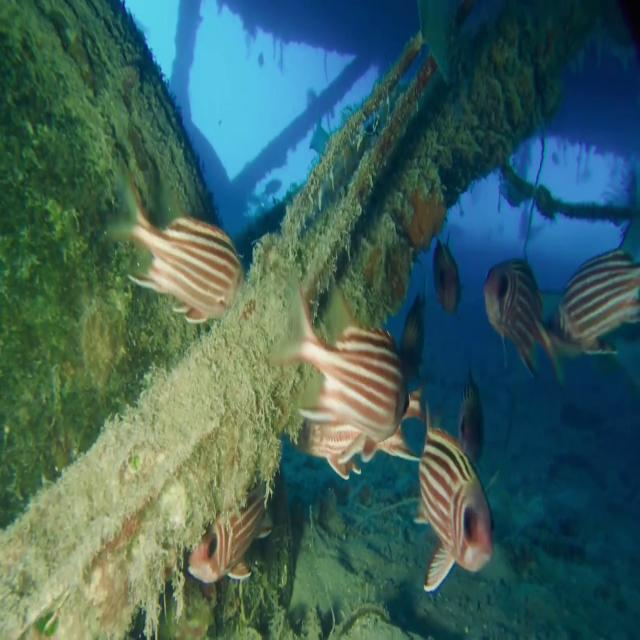Asker Baligi: (103, 162, 245, 327), (320, 322, 418, 474), (411, 429, 495, 600), (483, 238, 552, 378)
